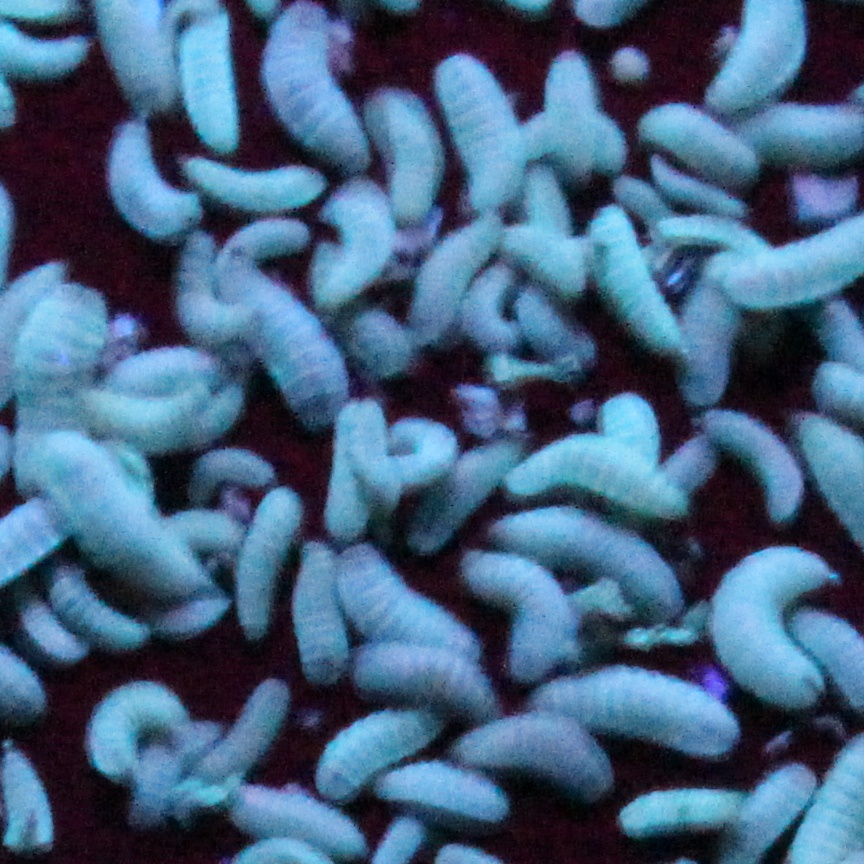larve: (41, 433, 209, 596), (703, 536, 834, 715), (12, 289, 110, 495), (227, 253, 349, 418), (529, 664, 743, 756), (499, 500, 678, 607), (336, 538, 490, 662), (258, 2, 372, 164), (505, 426, 687, 526), (445, 715, 616, 800), (692, 407, 810, 522), (416, 435, 527, 555), (427, 53, 518, 198), (596, 198, 679, 351), (347, 640, 503, 720), (470, 549, 565, 680), (105, 113, 192, 251), (365, 756, 520, 831), (630, 95, 759, 184), (229, 480, 298, 638), (81, 666, 180, 776), (323, 704, 450, 789), (227, 780, 369, 856), (200, 669, 290, 780), (414, 216, 496, 335), (676, 262, 747, 398), (167, 233, 250, 342), (181, 147, 321, 211), (370, 84, 440, 211), (596, 391, 667, 515), (343, 406, 454, 484), (45, 571, 156, 649), (294, 540, 352, 684), (516, 109, 627, 173), (496, 224, 598, 293), (327, 182, 389, 295), (78, 386, 203, 442), (518, 289, 601, 373), (547, 53, 600, 184), (620, 787, 758, 835), (101, 344, 223, 391), (178, 446, 281, 493), (656, 216, 770, 255)
